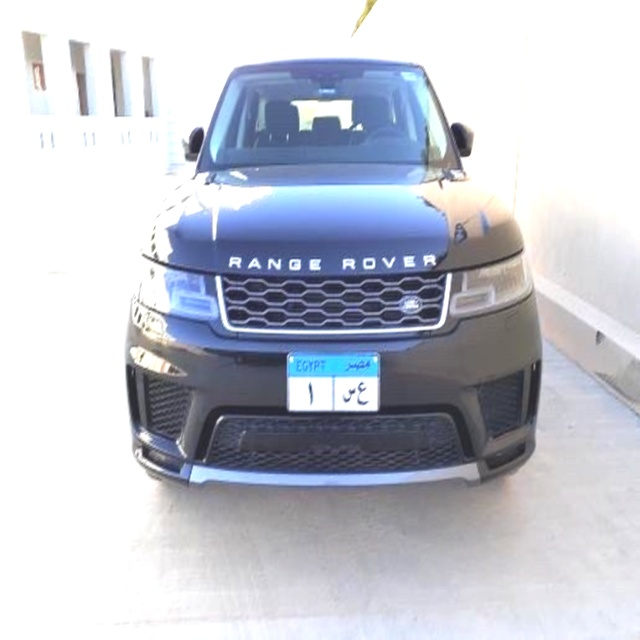License Plate: (285, 352, 380, 417)
